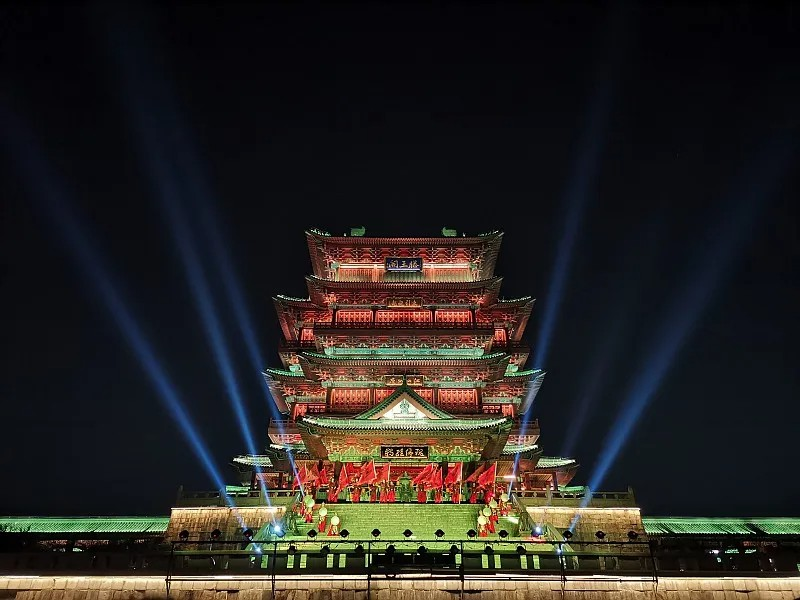Teng: (221, 225, 581, 499)
